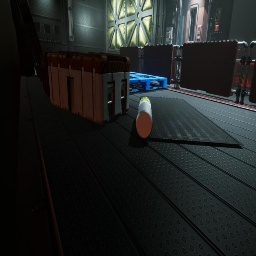0: (136, 96, 153, 139)
EmergencyPhone ,: (214, 5, 222, 21)
FireAlarm ,: (214, 21, 220, 32)
SafetySwitchPanel ,: (165, 27, 173, 44)
